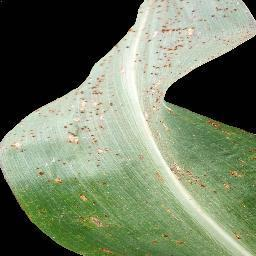Corn_Common_Rust: (53, 0, 256, 120), (52, 120, 114, 256), (0, 100, 53, 204), (167, 155, 256, 197), (135, 119, 247, 135), (147, 233, 190, 249), (116, 147, 145, 167), (228, 225, 248, 246), (152, 164, 169, 186)
